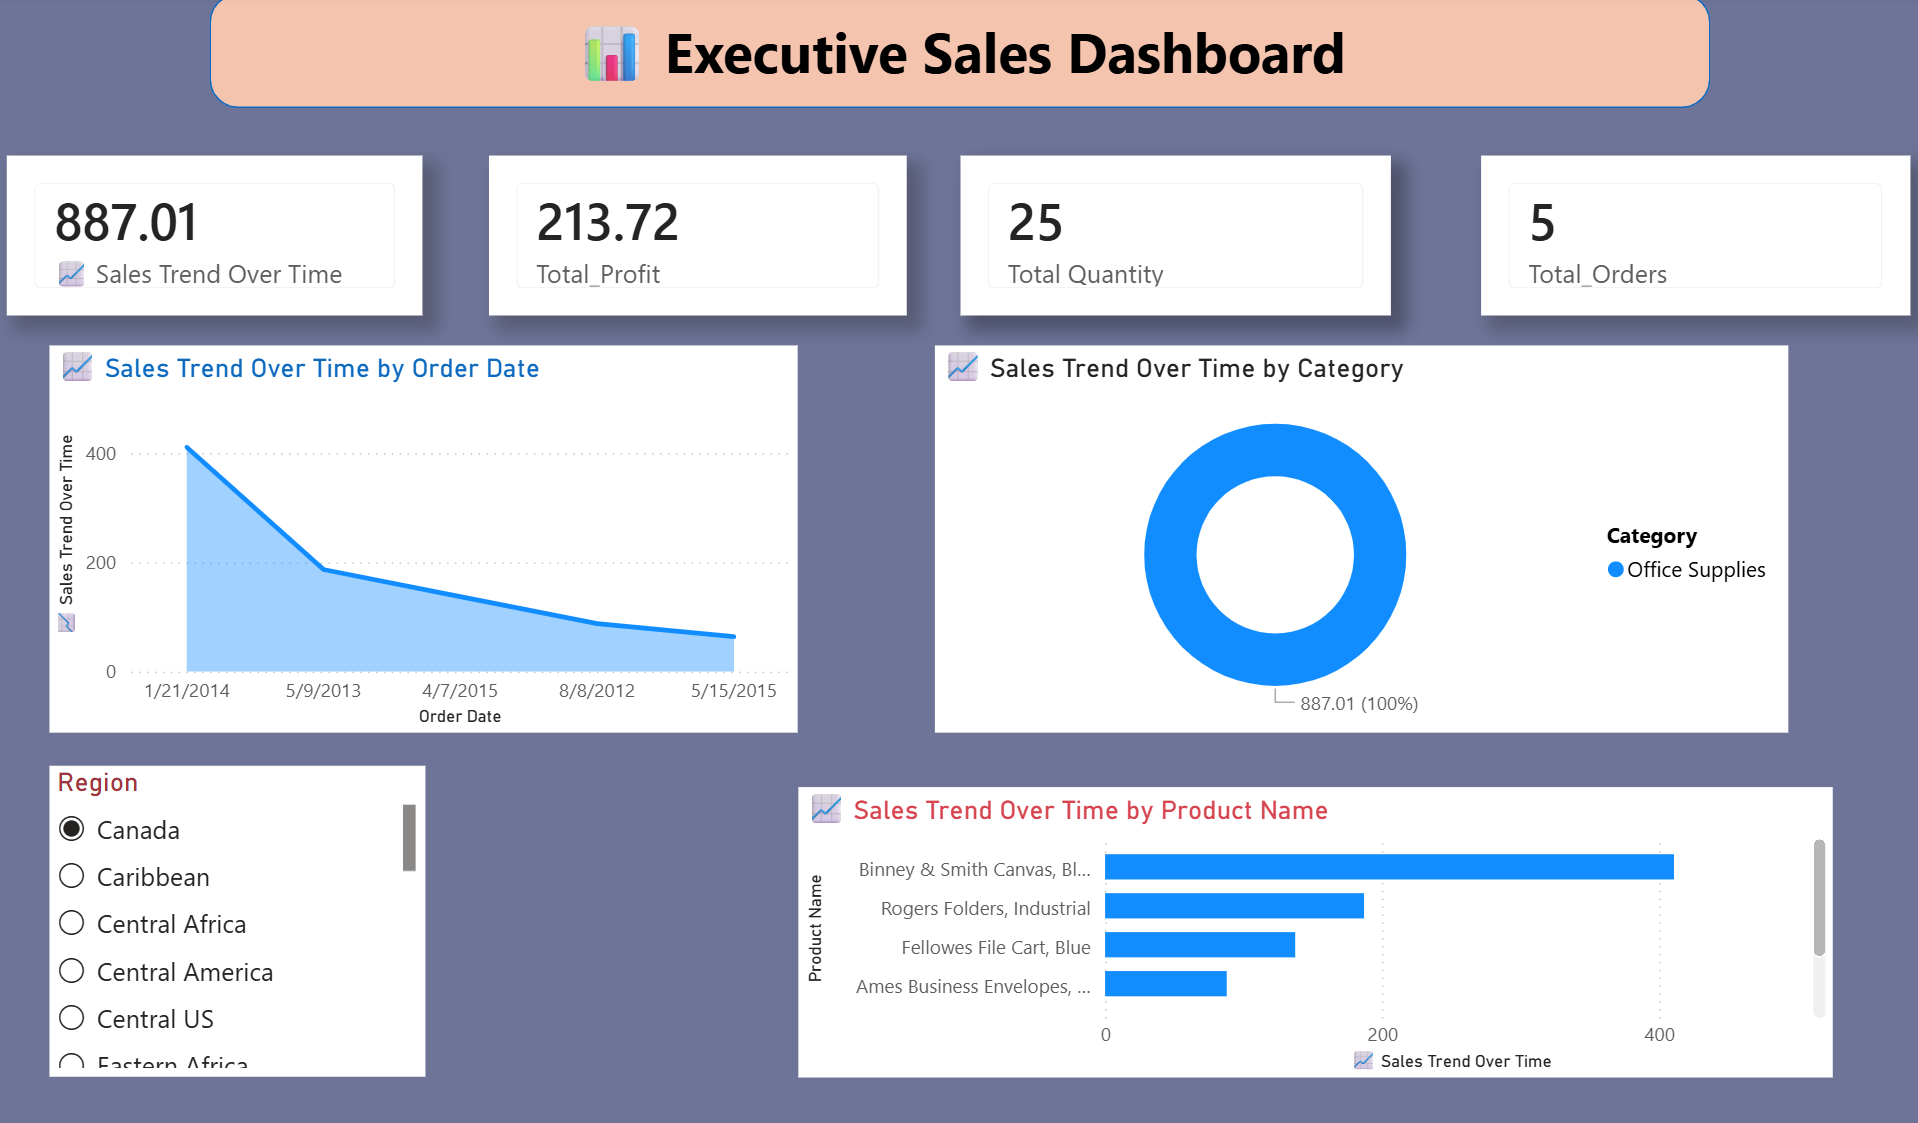

The page's visual inventory and layout, read from the dashboard file:
{"tool":"powerbi","page":{"name":"Page 1","canvas":[1280,720],"ordinal":0},"visuals":[{"type":"cardVisual","fields":{"Data":["Global_Superstore(CSV).Total_Sales"]},"box":[36.3,103,263.5,101.5],"z":0},{"type":"cardVisual","fields":{"Data":["Global_Superstore(CSV).Total_Profit"]},"box":[342.2,103,265,101.5],"z":1000},{"type":"cardVisual","fields":{"Data":["Global_Superstore(CSV).Total_Orders"]},"box":[955.5,103,272.6,101.5],"z":2000},{"type":"cardVisual","fields":{"Data":["Global_Superstore(CSV).Total_Quantity"]},"box":[640.5,103,272.6,101.5],"z":3000},{"type":"areaChart","fields":{"Category":["Global_Superstore(CSV).Order Date"],"Y":["Global_Superstore(CSV).Total_Sales"]},"box":[63.6,222.6,473.9,245.3],"z":4000},{"type":"clusteredBarChart","fields":{"Category":["Global_Superstore(CSV).Product Name"],"Y":["Global_Superstore(CSV).Total_Sales"]},"box":[508.8,501.2,655.7,184.7],"z":5000},{"type":"donutChart","fields":{"Category":["Global_Superstore(CSV).Category"],"Y":["Global_Superstore(CSV).Total_Sales"]},"box":[623.9,222.6,540.6,245.3],"z":6000},{"type":"listSlicer","fields":{"Values":["Global_Superstore(CSV).Region"]},"box":[63.6,489.1,237.7,196.8],"z":7000},{"type":"shape","box":[165,0,950.9,72.7],"z":8000}]}

Visuals, with their boxes in screenshot pixels (x1, y1, x2, y2):
cardVisual - Global_Superstore(CSV).Total_Sales: box(0, 149, 416, 310)
cardVisual - Global_Superstore(CSV).Total_Profit: box(484, 149, 905, 310)
cardVisual - Global_Superstore(CSV).Total_Orders: box(1458, 149, 1891, 310)
cardVisual - Global_Superstore(CSV).Total_Quantity: box(957, 149, 1390, 310)
areaChart - Global_Superstore(CSV).Order Date x Global_Superstore(CSV).Total_Sales: box(41, 339, 794, 728)
clusteredBarChart - Global_Superstore(CSV).Product Name x Global_Superstore(CSV).Total_Sales: box(748, 781, 1790, 1074)
donutChart - Global_Superstore(CSV).Category x Global_Superstore(CSV).Total_Sales: box(931, 339, 1790, 728)
listSlicer - Global_Superstore(CSV).Region: box(41, 762, 419, 1074)
shape: box(202, 0, 1712, 100)
